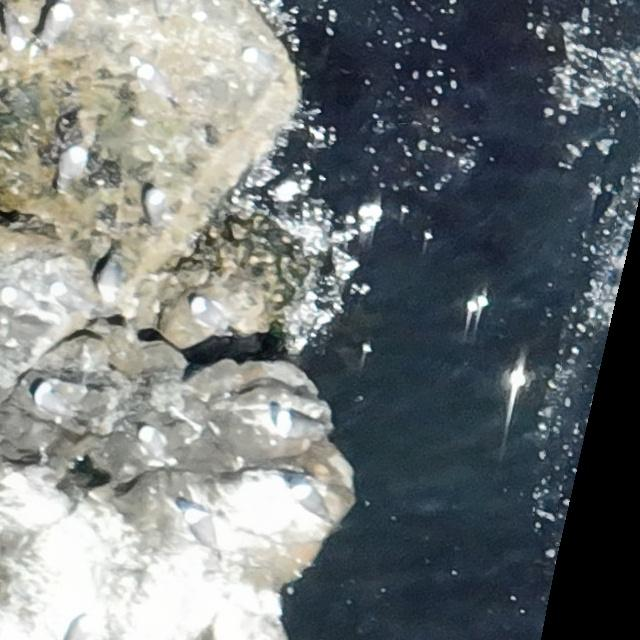umineko: (294, 484, 334, 526), (185, 507, 220, 555), (93, 248, 123, 303), (35, 384, 77, 422), (275, 409, 328, 438), (191, 296, 232, 333), (138, 64, 176, 102), (3, 6, 31, 53), (42, 4, 71, 47), (3, 287, 42, 317), (140, 426, 170, 464), (59, 147, 87, 187), (143, 185, 167, 226), (68, 613, 100, 638)
